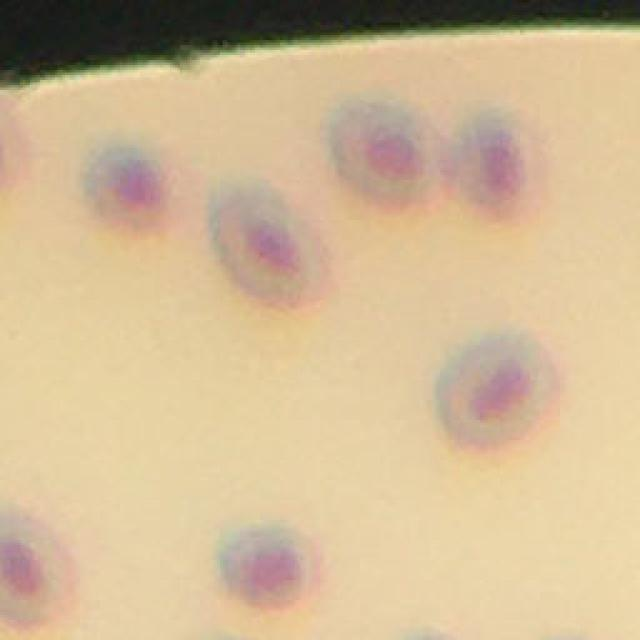RBC: (433, 326, 560, 454), (209, 175, 321, 306), (324, 92, 440, 212), (445, 105, 546, 229), (0, 496, 78, 629), (220, 520, 318, 610), (84, 137, 172, 237)
